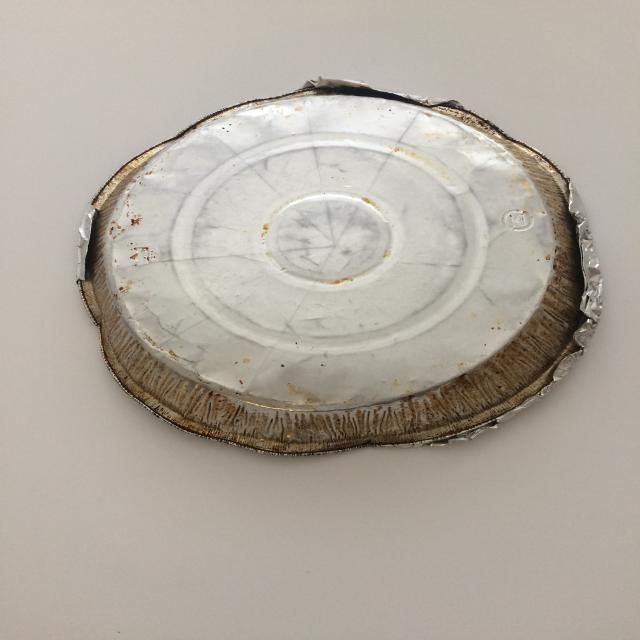metal: (72, 78, 608, 460)
